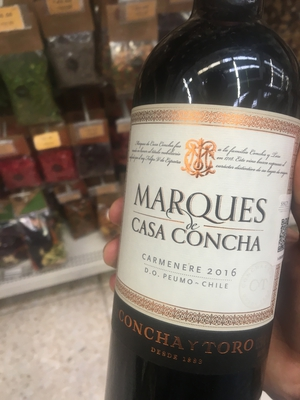marques de casa concha carmenere: (110, 10, 300, 399)
